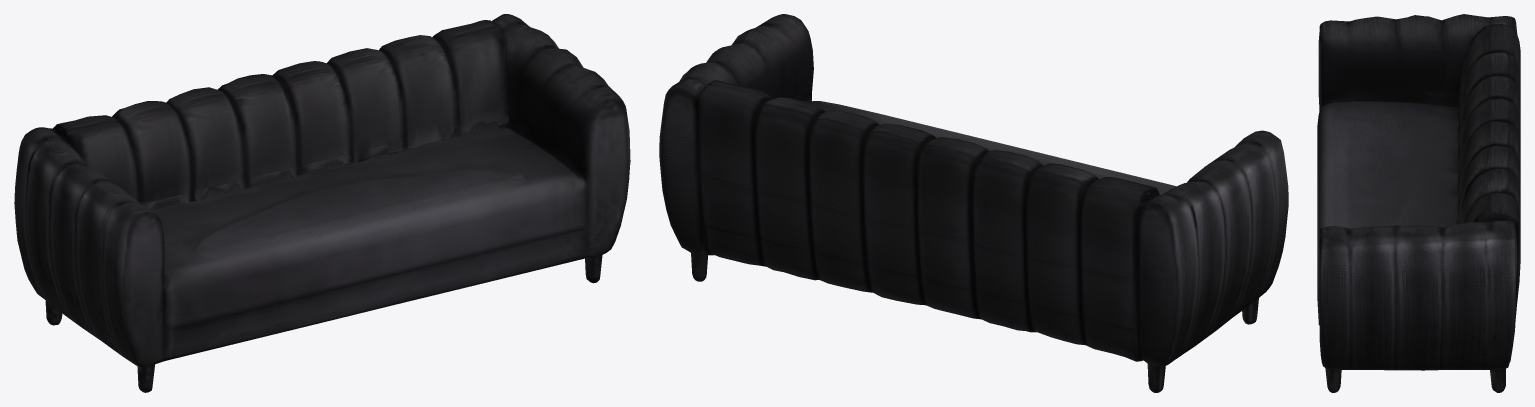
File: black_velvet_sofa_0428030912_texture.glb
3 renders of one model, left to right at view 1: azimuth 30°, elevation 25°; view 2: azimuth 150°, elevation 25°; view 3: azimuth 270°, elevation 25°, orthographic. The views are drawn at different scales.
Visible parts, largest first — view 1: Mesh_0.001; view 2: Mesh_0.001; view 3: Mesh_0.001.
Boxes of the visible parts, <box> form: Mesh_0.001: <box>14,14,630,392</box>; Mesh_0.001: <box>659,14,1288,392</box>; Mesh_0.001: <box>1317,14,1520,392</box>.
Bounding box in the file's own units: 2.19 × 0.7874 × 0.8234.
1 material, 1 textured.
